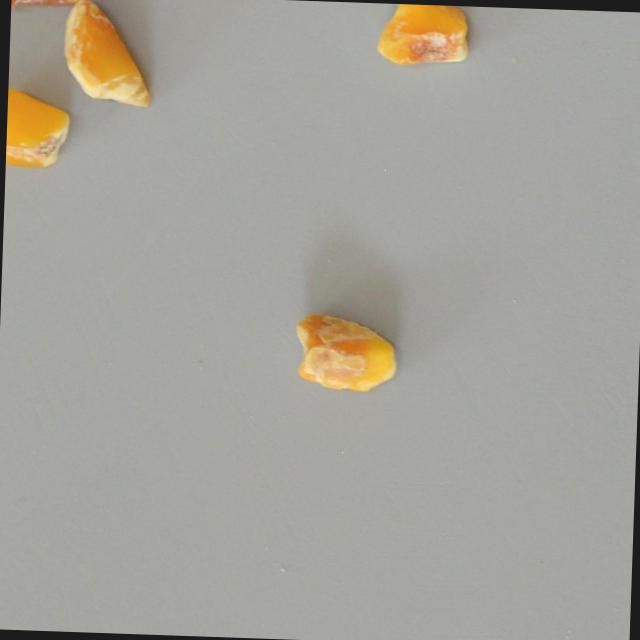dañado: (57, 0, 156, 109), (292, 310, 398, 391), (375, 2, 471, 67), (5, 84, 71, 167), (11, 0, 97, 9)
